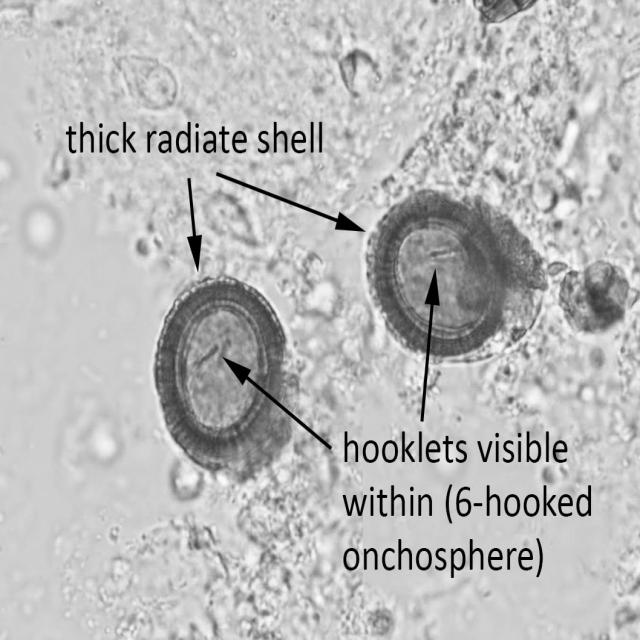Taenia Sp: (146, 270, 298, 478), (361, 190, 517, 369)
